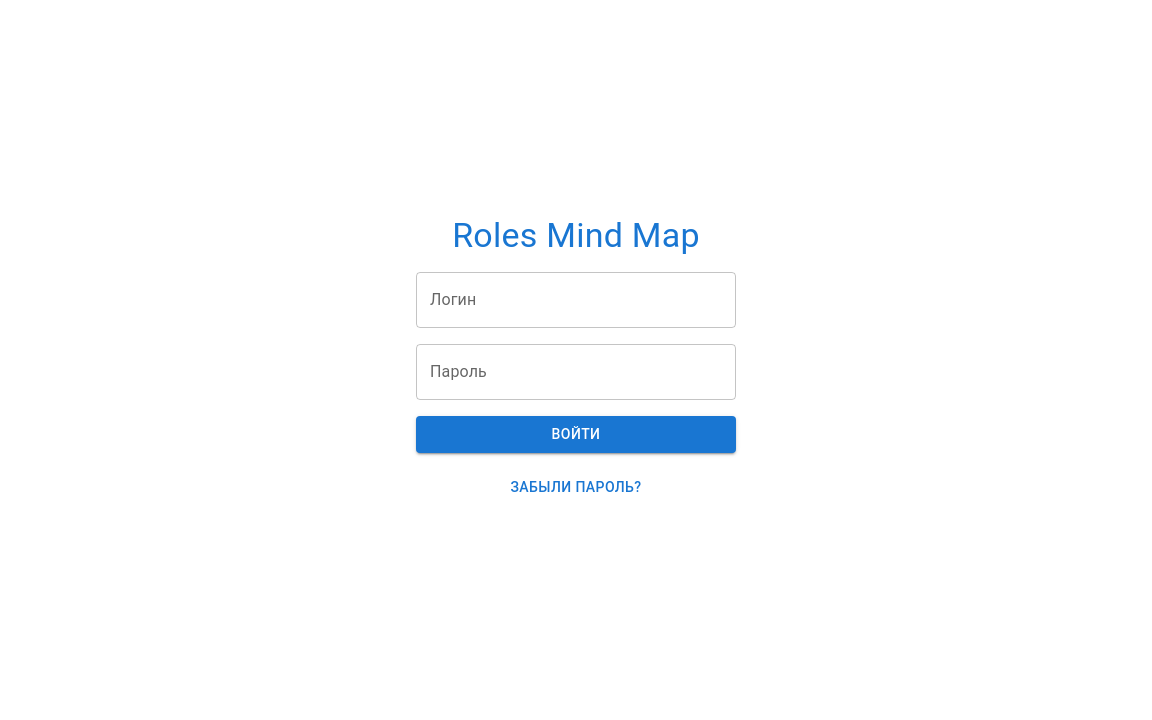
Scenario: «Забыли пароль?» opens the contact modal with the site link
Click the button "Забыли пароль?". click: (576,487)
box: [416,469,736,506]
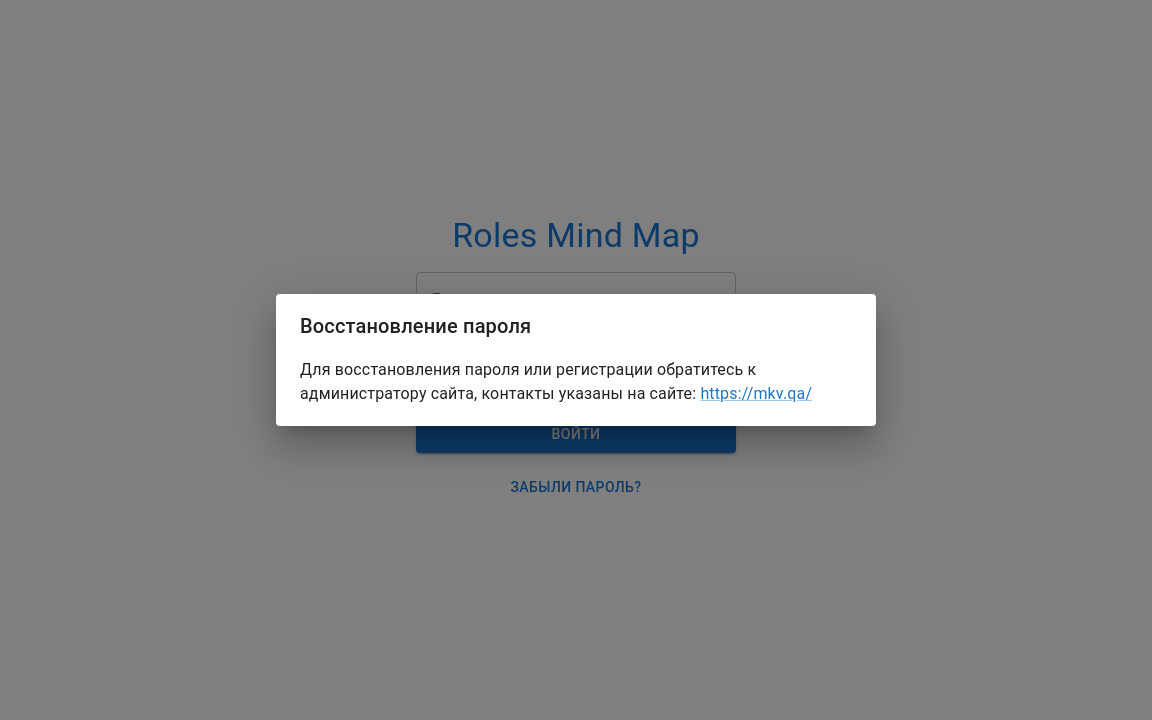
Check: the text "обратитесь к администратору сайта" is shown, box [300,360,756,403]
